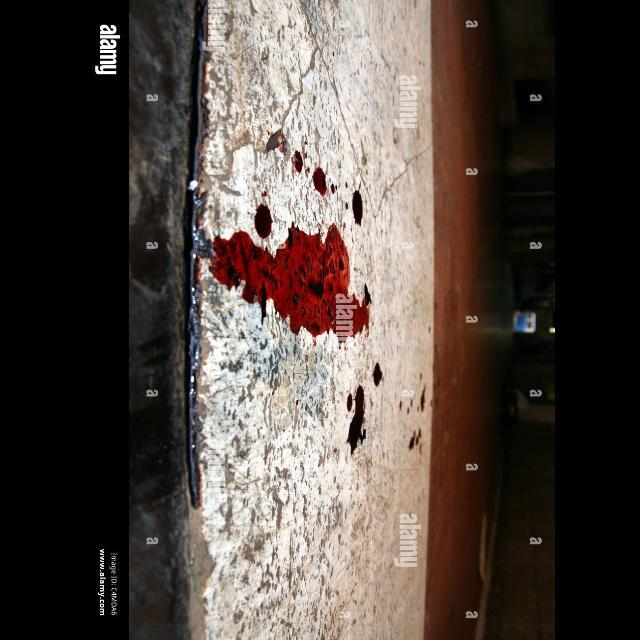blood: (195, 221, 372, 352), (347, 384, 366, 455), (254, 203, 273, 239), (312, 166, 328, 196), (352, 189, 363, 226), (373, 362, 382, 387), (294, 150, 303, 173), (347, 392, 353, 412)
